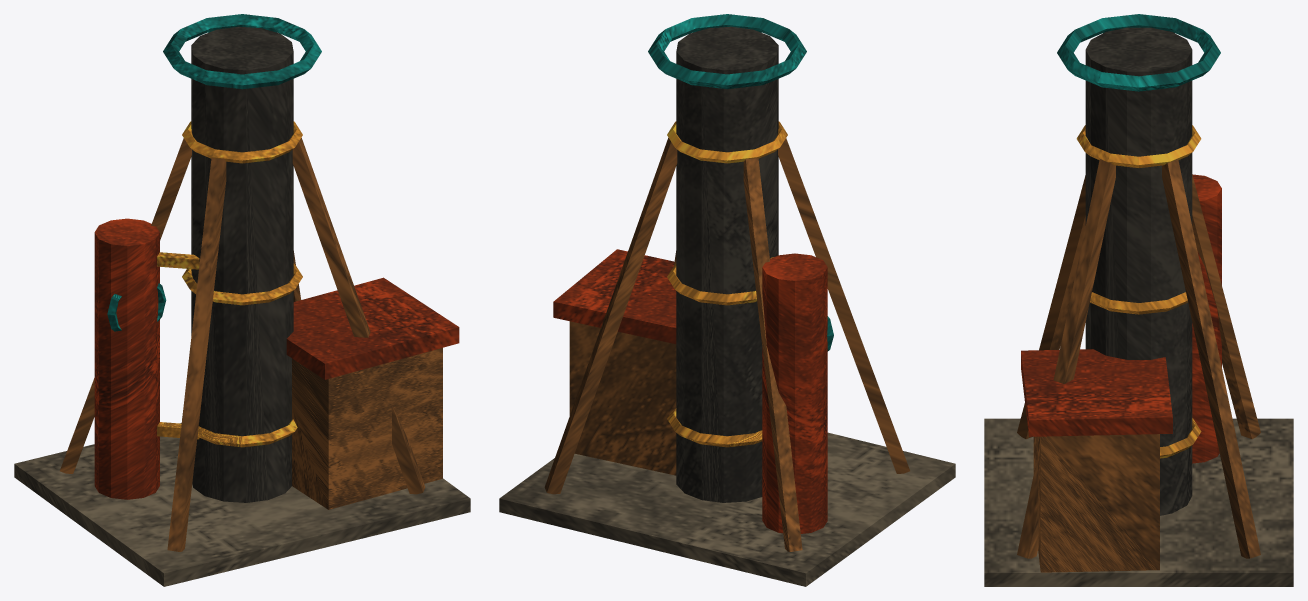
The model's file is derrick-03.glb.
3 renders of one model, left to right at view 1: azimuth 30°, elevation 25°; view 2: azimuth 150°, elevation 25°; view 3: azimuth 270°, elevation 25°, orthographic. The views are drawn at different scales.
Parts seen in each view (by area): view 1: derrick-03; view 2: derrick-03; view 3: derrick-03.
Boxes of the visible parts, bbox=[...] form: derrick-03: bbox=[14, 14, 470, 586]; derrick-03: bbox=[499, 14, 955, 586]; derrick-03: bbox=[984, 14, 1293, 586].
Size of the model in its own units: 5.37 by 7.3 by 4.4.
Materials: 1 (1 with a texture image).
